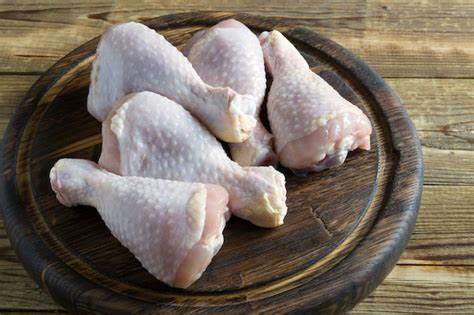Chicken: (93, 91, 294, 239), (42, 149, 234, 297), (78, 19, 261, 153), (262, 16, 378, 179), (178, 14, 279, 171)
